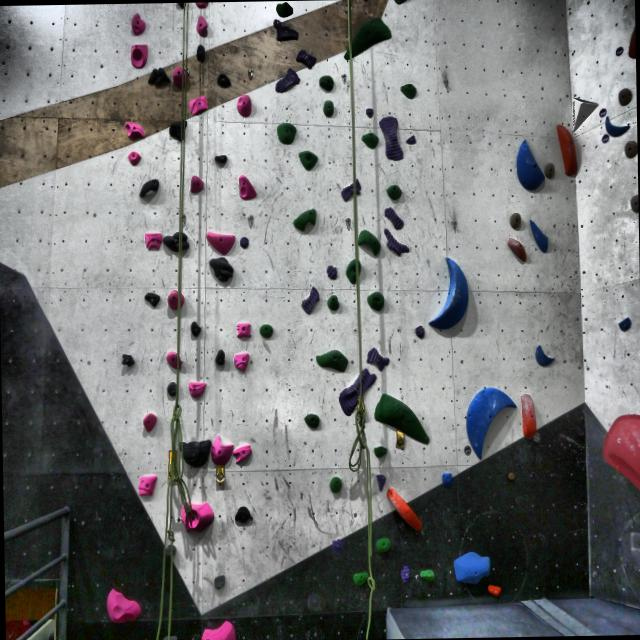Hold: (464, 386, 516, 460), (597, 410, 640, 497), (373, 393, 432, 446), (430, 255, 467, 332), (342, 14, 392, 65), (338, 369, 377, 418), (384, 484, 424, 528), (516, 138, 546, 194), (104, 583, 146, 622), (554, 123, 578, 179), (378, 112, 404, 161), (451, 548, 490, 580), (182, 496, 214, 532), (199, 614, 237, 640), (210, 432, 236, 469), (528, 212, 550, 255), (382, 227, 412, 258), (201, 228, 235, 255), (314, 350, 348, 376), (266, 18, 300, 44), (364, 342, 392, 373), (178, 438, 211, 464), (290, 206, 319, 234), (206, 256, 234, 285), (355, 228, 382, 258), (520, 390, 536, 436), (234, 172, 258, 202), (274, 66, 298, 95), (164, 227, 188, 255), (506, 232, 528, 262), (136, 178, 164, 200), (232, 350, 252, 379), (604, 114, 628, 138), (274, 120, 296, 146), (142, 227, 164, 253), (344, 256, 364, 284), (300, 286, 320, 314), (357, 128, 380, 152), (127, 44, 149, 69), (166, 118, 188, 143), (125, 117, 146, 143), (339, 178, 361, 202), (296, 148, 318, 172), (147, 66, 169, 90), (164, 285, 186, 309), (137, 472, 158, 497), (182, 380, 208, 400), (142, 408, 160, 436), (534, 341, 554, 366), (129, 14, 151, 36), (140, 288, 161, 310), (164, 349, 186, 370), (384, 205, 404, 228), (374, 534, 397, 554), (365, 290, 384, 314), (272, 1, 298, 18), (234, 506, 256, 526), (187, 95, 210, 114), (352, 568, 376, 586), (294, 49, 315, 69), (396, 80, 416, 100), (124, 148, 144, 168), (235, 441, 253, 463), (238, 93, 252, 121), (318, 100, 337, 120), (371, 441, 391, 460), (317, 74, 337, 92), (416, 566, 437, 583), (189, 174, 206, 194), (235, 320, 252, 340), (330, 472, 345, 494), (397, 564, 412, 586), (122, 349, 136, 372), (616, 316, 632, 336), (188, 320, 204, 340), (173, 65, 187, 87), (192, 42, 206, 64), (302, 410, 321, 426), (194, 16, 209, 36), (216, 72, 233, 89), (376, 468, 388, 492), (387, 182, 402, 200), (325, 262, 337, 282), (326, 294, 341, 310), (258, 323, 274, 338), (405, 130, 418, 148), (214, 348, 227, 366), (212, 150, 228, 164), (210, 574, 224, 590), (412, 324, 424, 341), (168, 379, 178, 397), (438, 468, 450, 483), (486, 585, 502, 595), (362, 104, 373, 118), (238, 236, 248, 250)
